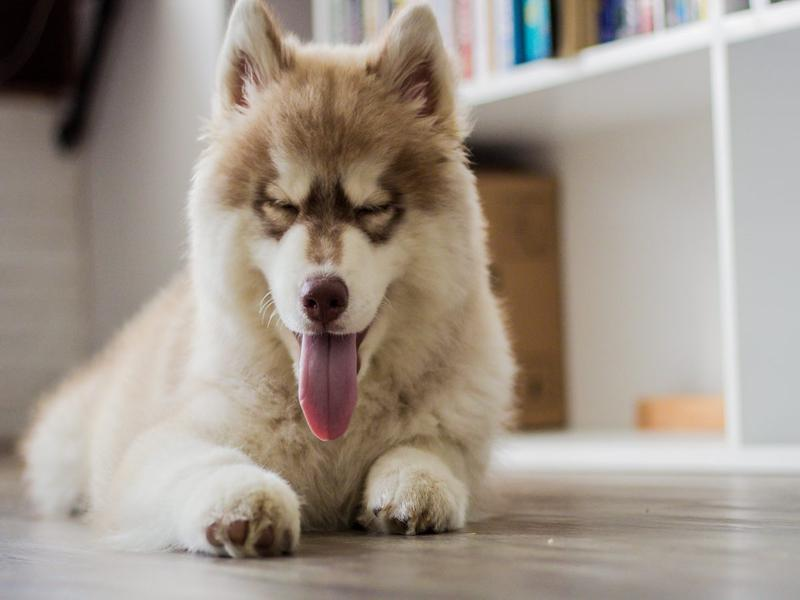dog_down: (12, 1, 517, 560)
